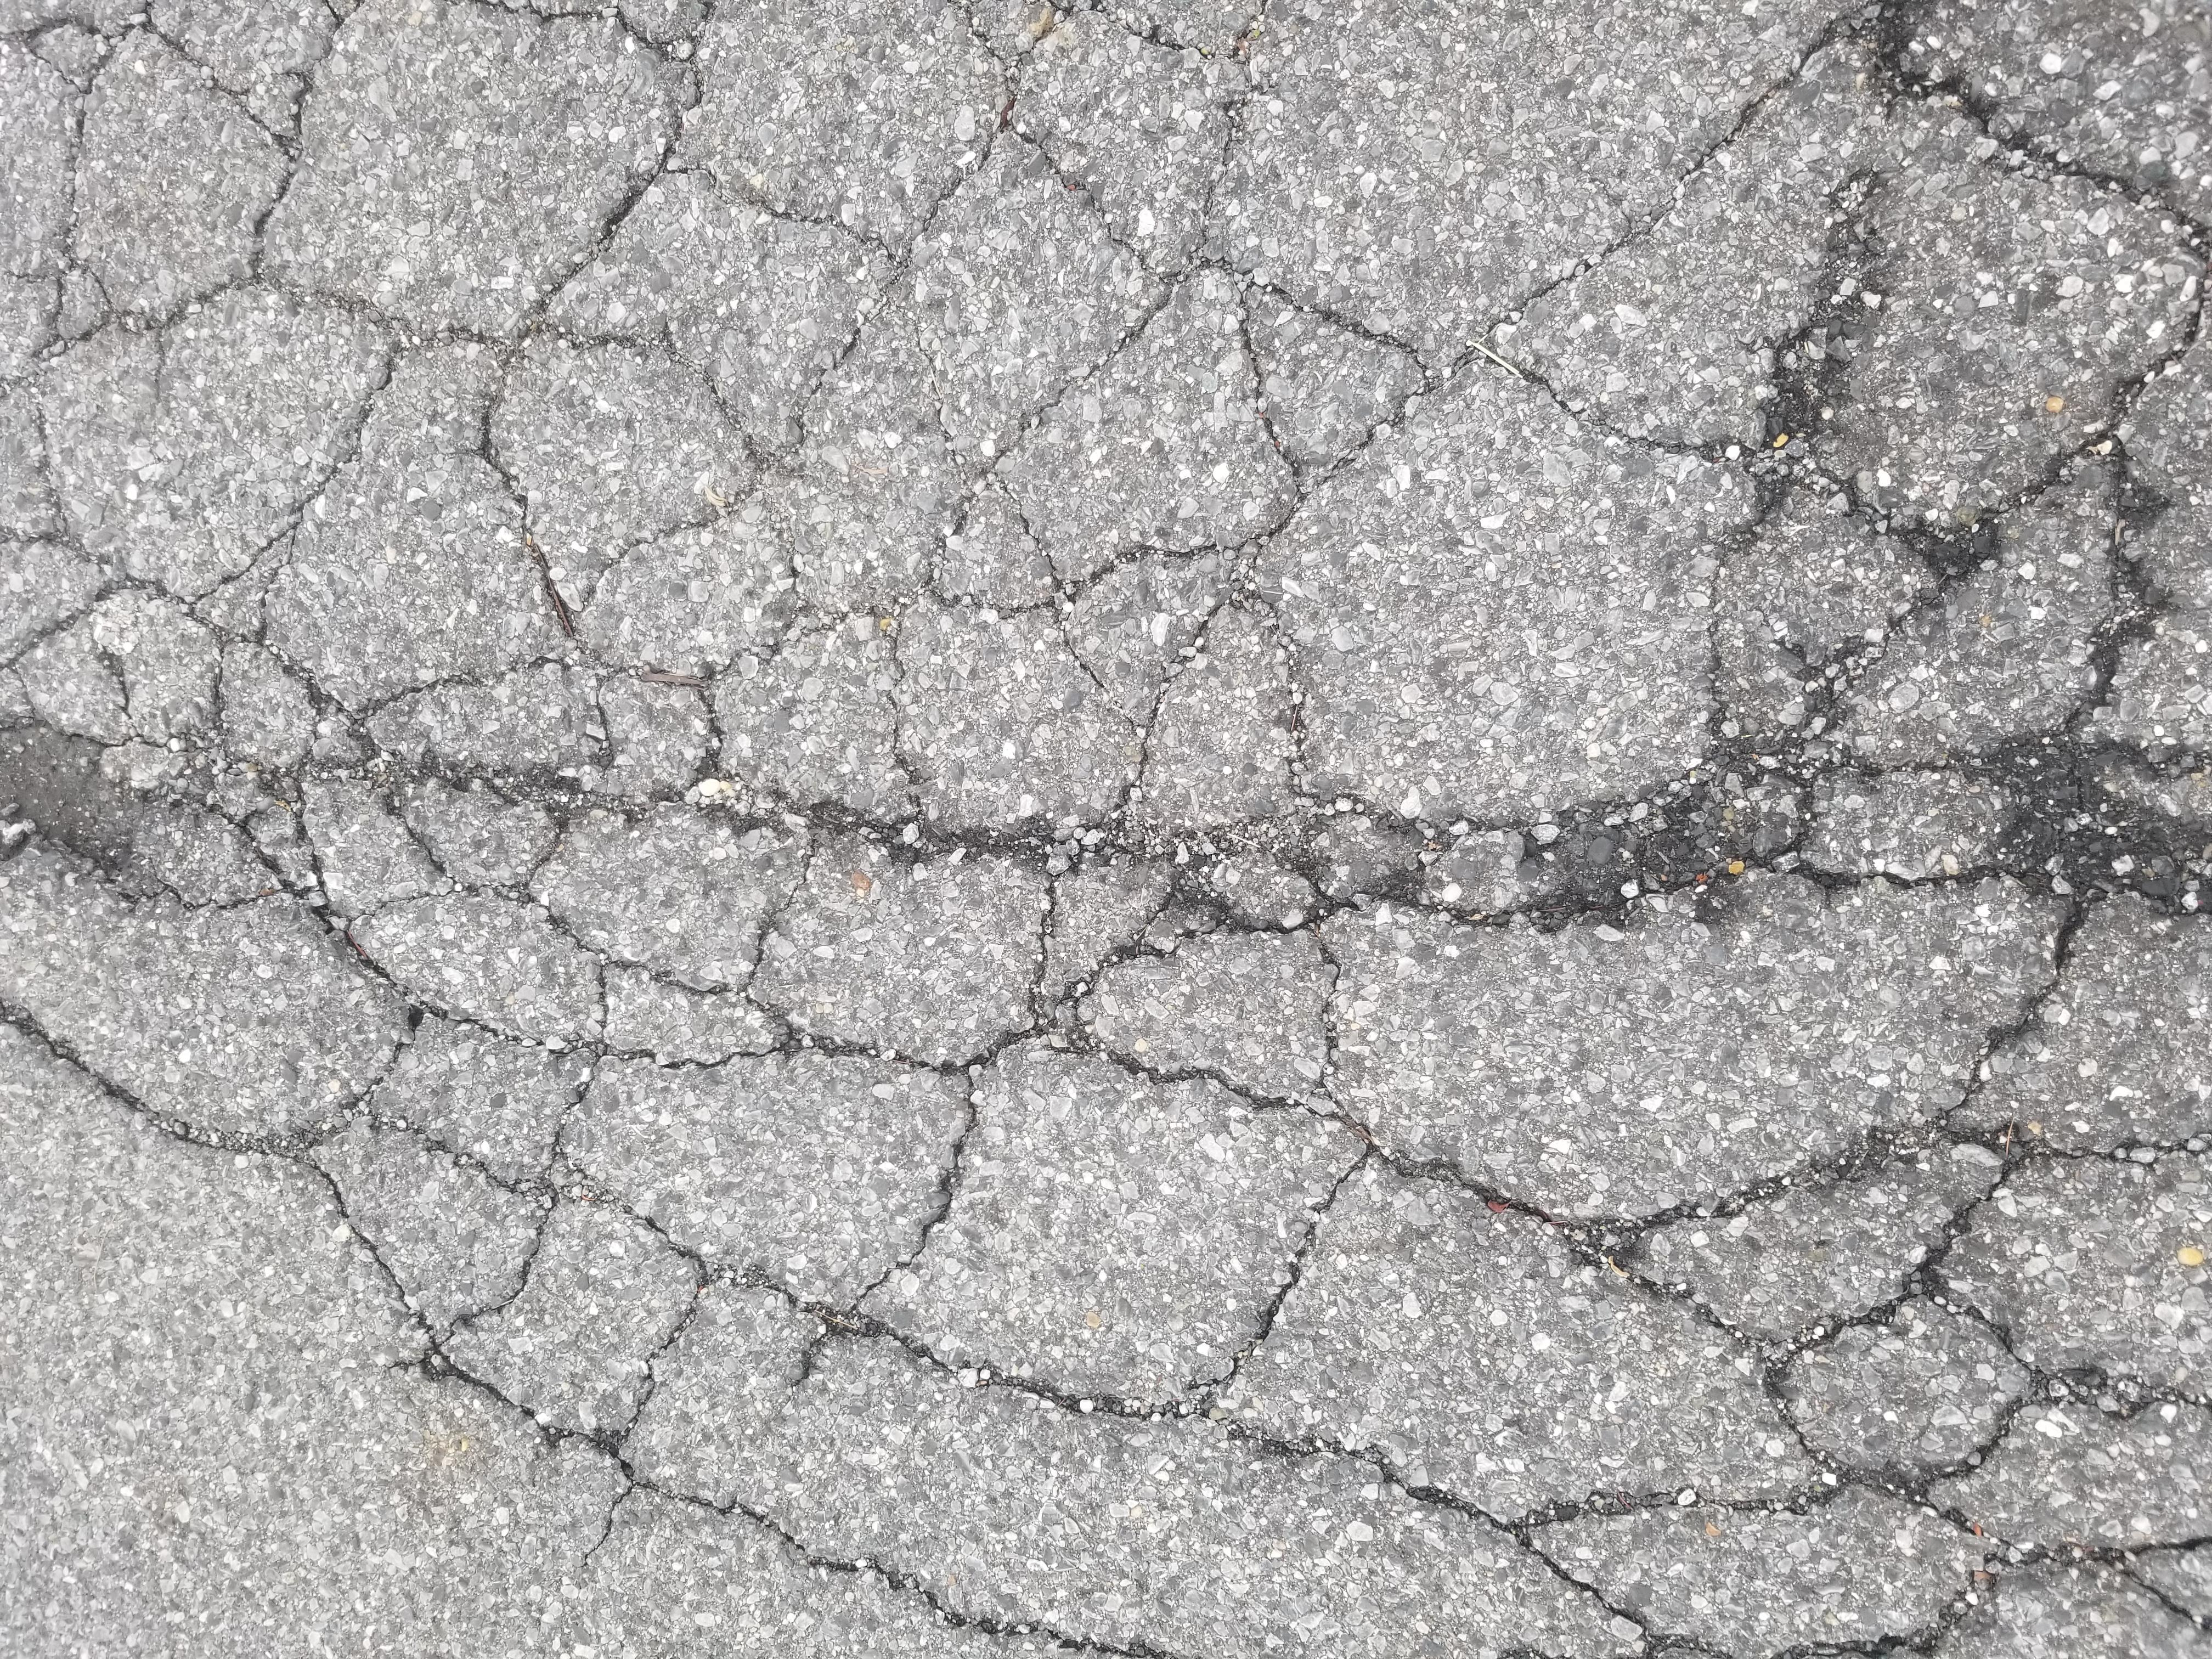alligator-crack: (31, 26, 2212, 1659)
